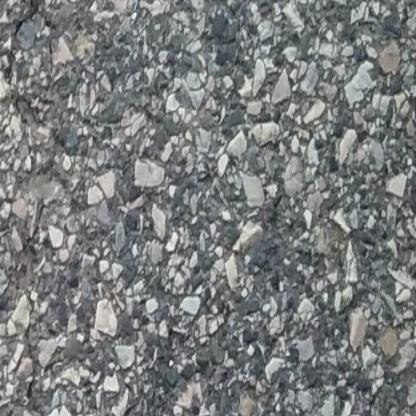Cracks: (27, 300, 71, 416), (8, 0, 46, 78), (0, 239, 44, 294)
